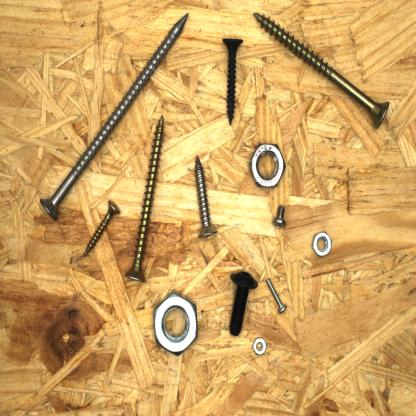screw: (36, 7, 190, 224), (252, 9, 394, 132), (122, 112, 166, 285), (224, 265, 263, 342), (192, 152, 223, 241), (80, 196, 122, 260), (220, 32, 244, 128), (263, 274, 294, 317), (270, 200, 290, 231)
